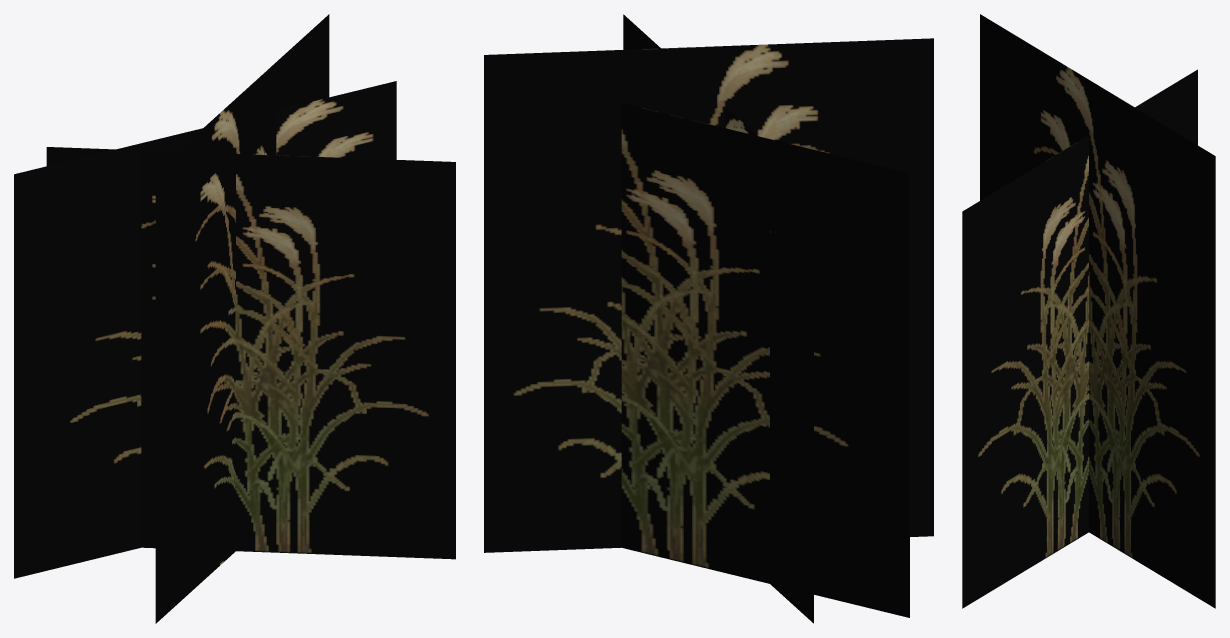
File: town_rivergrass02.fbx
3 views of the same model, side by side, from view 1: azimuth 30°, elevation 25°; view 2: azimuth 150°, elevation 25°; view 3: azimuth 270°, elevation 25° (orthographic). The views are drawn at different scales.
Visible parts, largest first — view 1: town_layout_grass03; view 2: town_layout_grass03; view 3: town_layout_grass03.
Part boxes in pixels (x1,y1,x2,y2): town_layout_grass03: [14, 14, 455, 623]; town_layout_grass03: [484, 14, 933, 623]; town_layout_grass03: [962, 14, 1215, 608].
Bounding box in the file's own units: 2.43 × 2.75 × 1.39.
